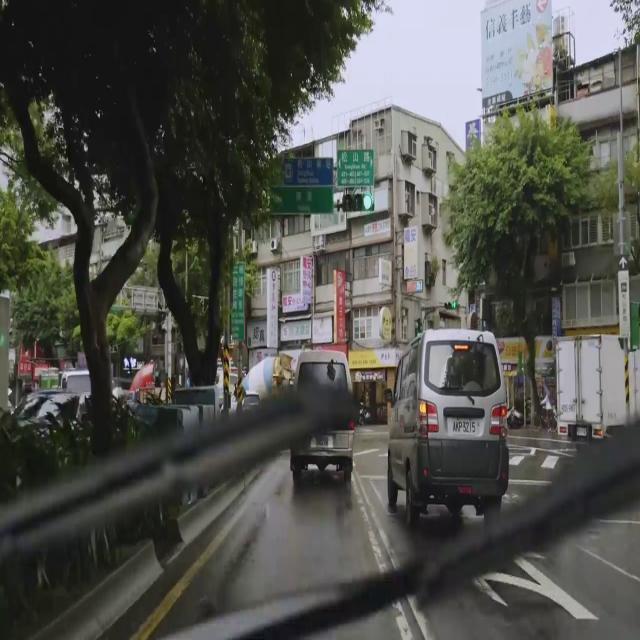green light: (343, 193, 373, 213)
